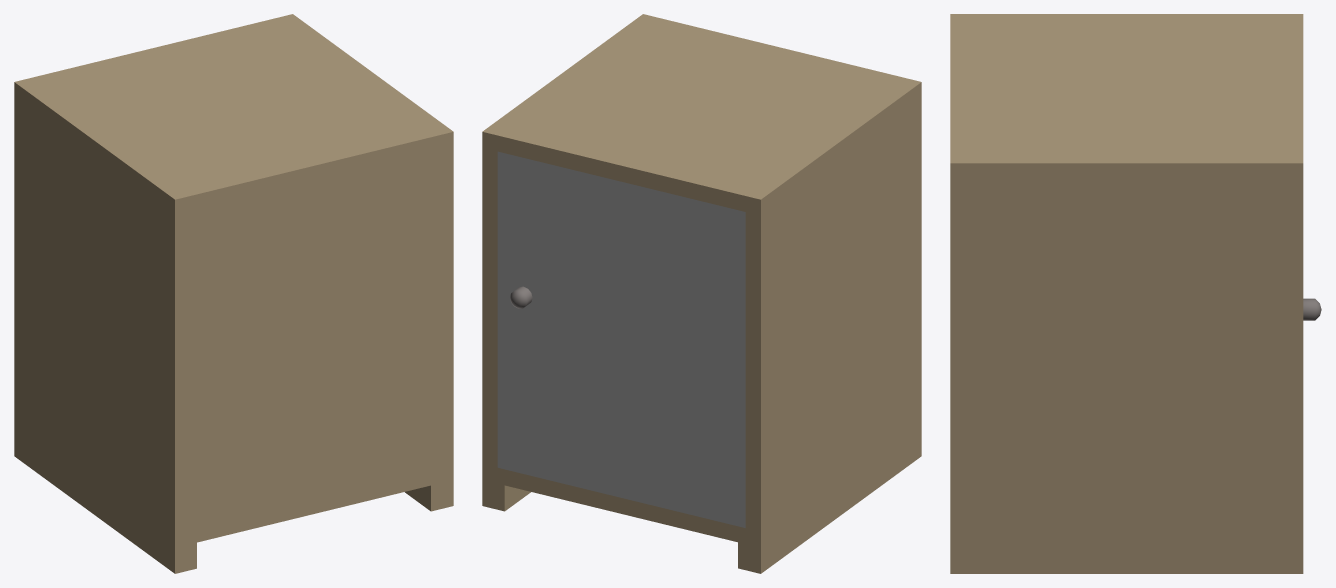
The model's file is SM_Locker_02.fbx.
3 views of the same model, side by side, from view 1: azimuth 30°, elevation 25°; view 2: azimuth 150°, elevation 25°; view 3: azimuth 270°, elevation 25° (orthographic). The views are drawn at different scales.
Parts seen in each view (by area): view 1: SM_Locker_02; view 2: SM_Locker_02; view 3: SM_Locker_02.
Part boxes in pixels (bbox=[...]): SM_Locker_02: bbox=[14, 14, 453, 573]; SM_Locker_02: bbox=[482, 14, 921, 573]; SM_Locker_02: bbox=[950, 14, 1321, 573].
Bounding box in the file's own units: 59.67 × 76.59 × 62.74.
Materials: 1 (1 with a texture image).
